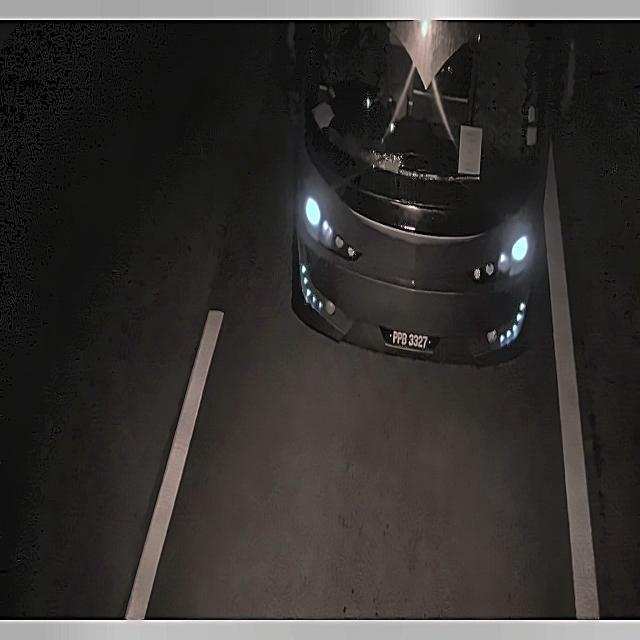car: (382, 322, 441, 357)
